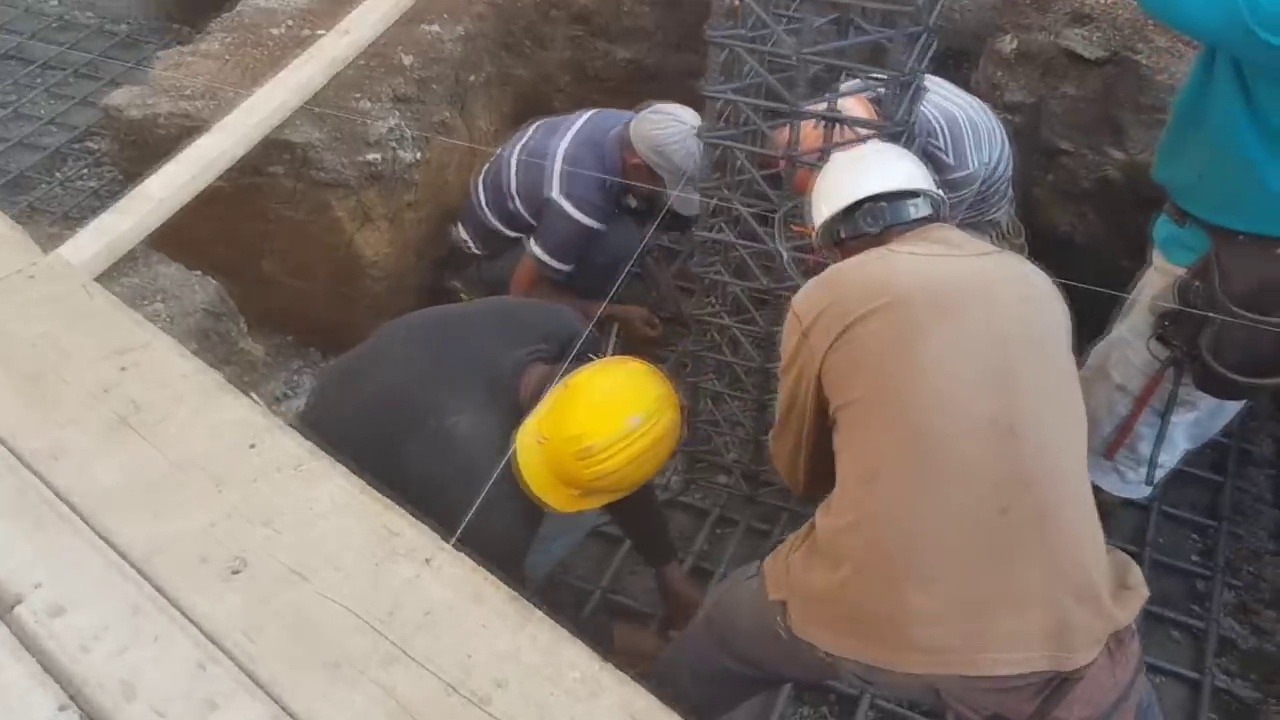helmet: (512, 357, 680, 522), (798, 133, 948, 233), (770, 89, 880, 199)
helmet-off: (615, 110, 710, 224)
helmet-on: (502, 341, 683, 533), (798, 133, 956, 266), (772, 79, 899, 194)
person: (663, 132, 1167, 720), (297, 297, 682, 563), (1085, 0, 1277, 496), (463, 96, 713, 334), (766, 65, 1028, 238)
